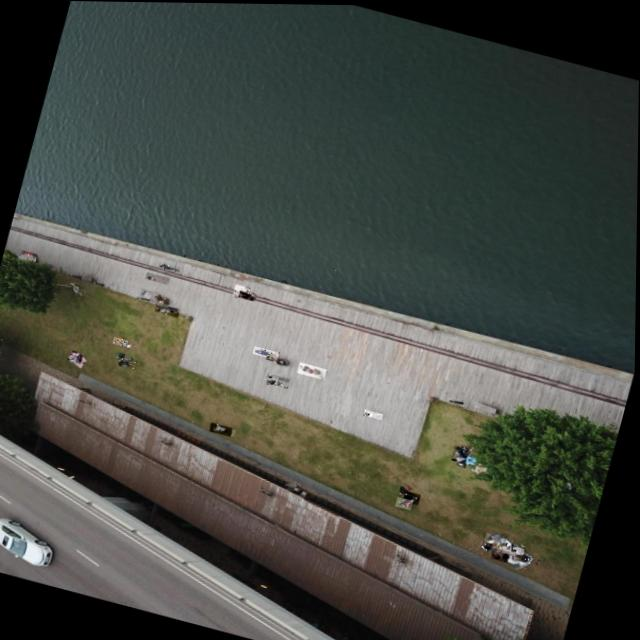Person: (298, 360, 328, 377), (253, 344, 281, 358), (264, 374, 290, 388), (156, 302, 181, 316), (452, 442, 470, 461), (210, 421, 234, 435), (145, 270, 170, 283), (140, 286, 163, 300), (151, 291, 171, 306), (214, 423, 237, 435), (120, 355, 141, 368), (404, 488, 422, 503), (157, 260, 181, 271), (497, 534, 514, 549), (234, 282, 251, 297), (396, 494, 414, 508), (515, 549, 534, 562), (492, 547, 511, 560), (365, 407, 386, 418), (19, 250, 38, 262), (483, 538, 502, 550), (509, 542, 526, 555), (239, 288, 257, 300), (20, 249, 38, 261), (268, 372, 291, 381), (486, 530, 502, 541), (114, 334, 130, 345), (69, 352, 83, 363), (65, 353, 80, 363), (0, 309, 0, 320)
